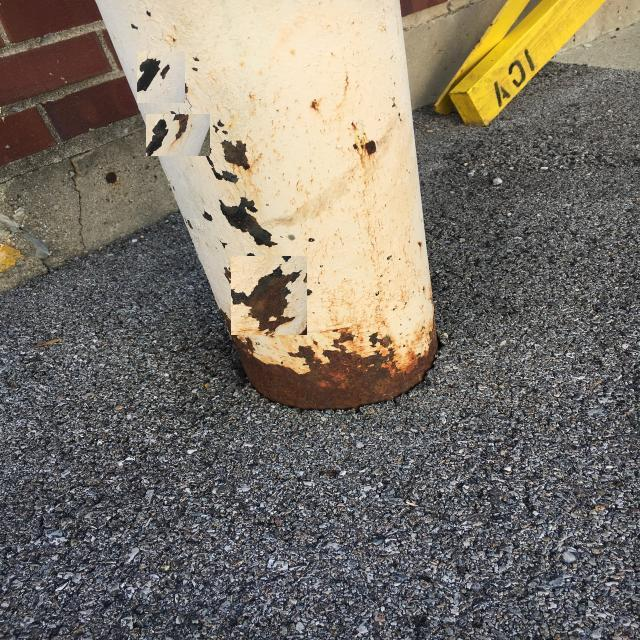Corrosion: (238, 336, 438, 410), (234, 266, 298, 332), (220, 197, 277, 246), (146, 119, 168, 156), (221, 140, 249, 168), (137, 58, 159, 90), (173, 112, 189, 140)
